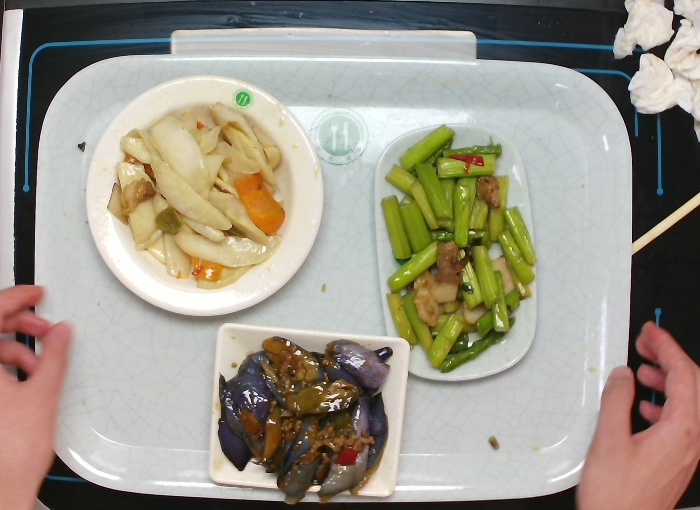WCQzf-Bai_Se_Si_Fang_Die: (203, 320, 414, 503)
WCQzf-Kuan_Bian_Yuan_Die: (76, 70, 330, 323)
WCQzf-Tuo_Yuan_Pan: (369, 118, 541, 385)
